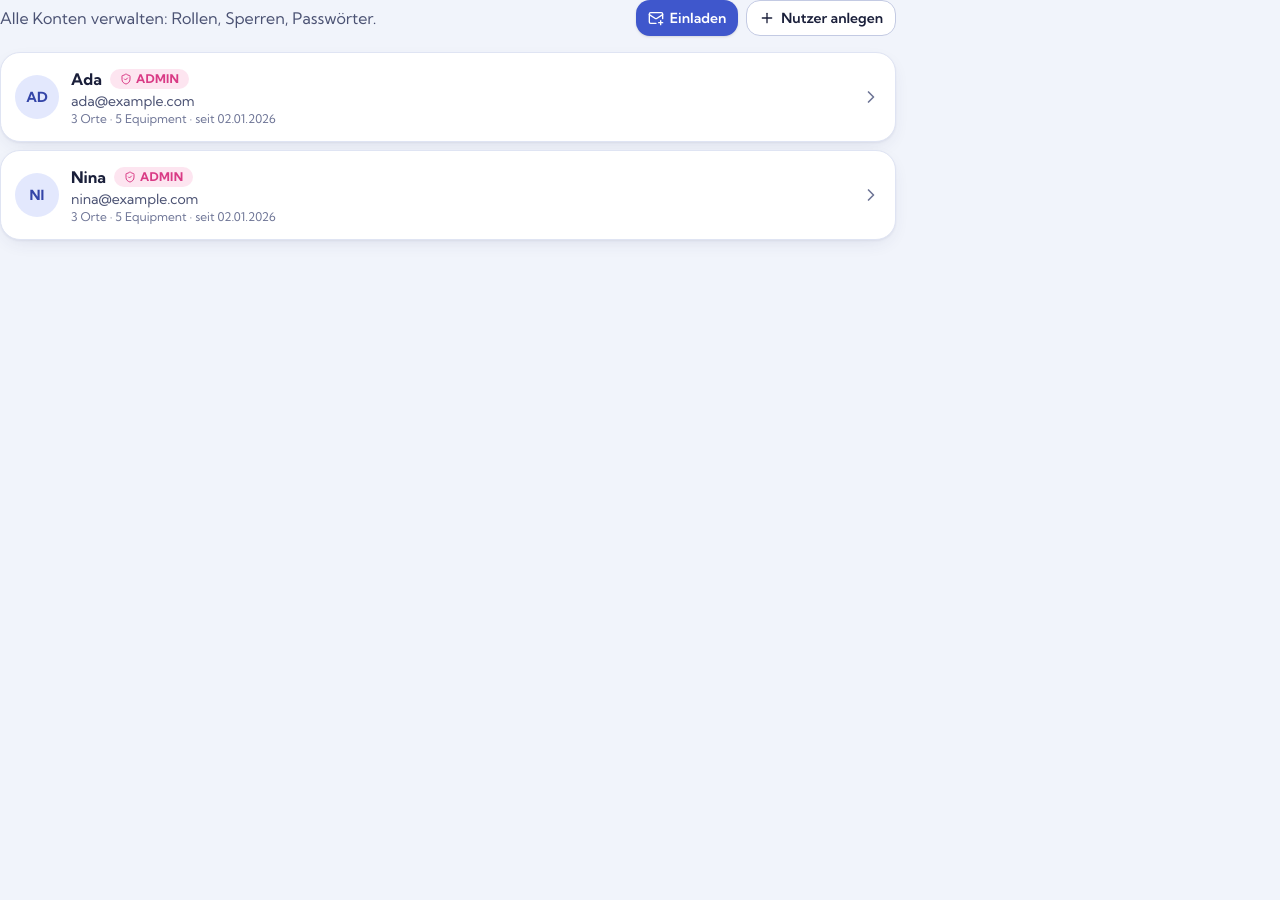
Test: UsersAdmin user dialog › shows why the last admin cannot be demoted
This screenshot has width=1280, height=900.
What coordinates should you click on to do the following:
click the button "Nina"
I would click on:
 (37, 195)
Its box is [1,151,895,239].
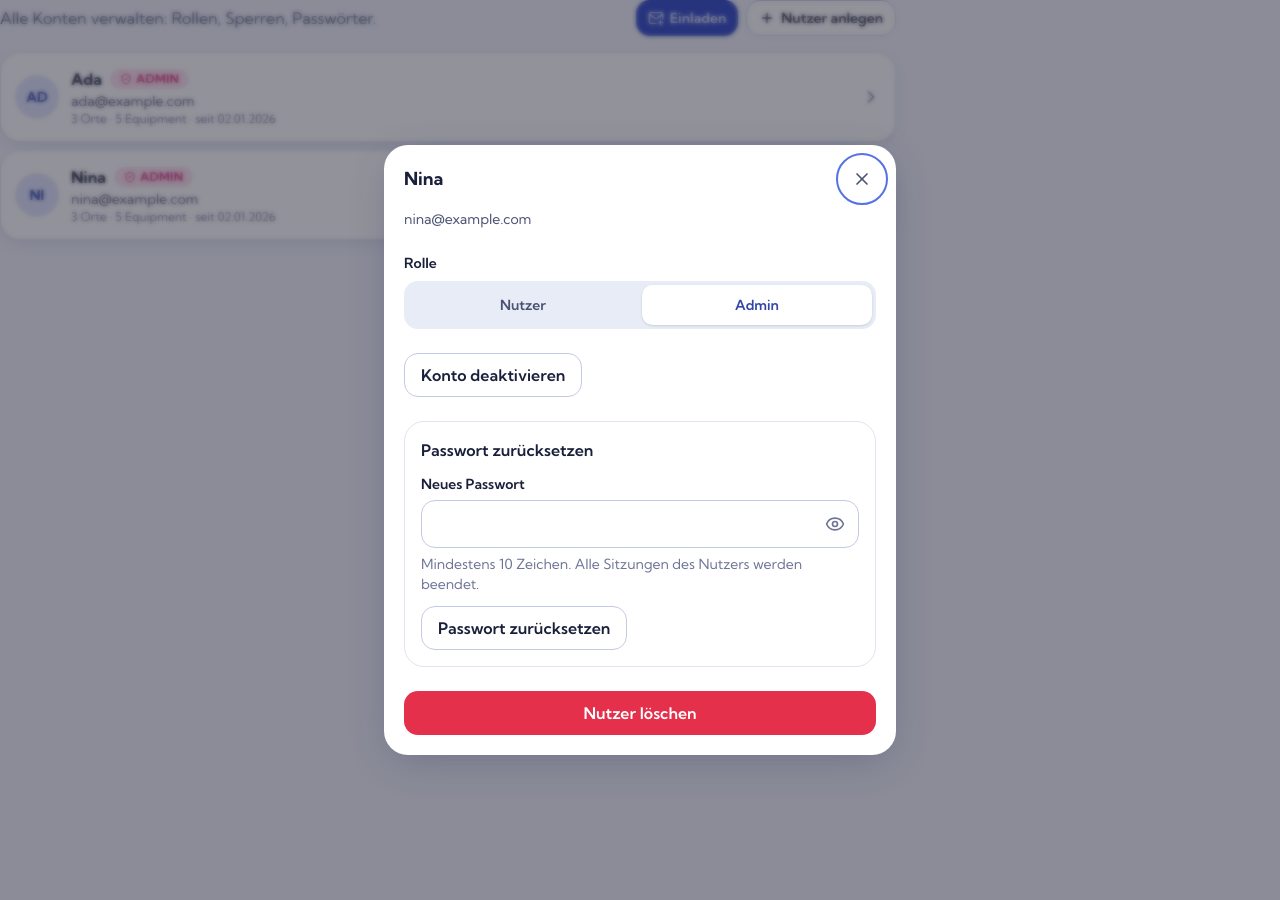
What coordinates should you click on to do the following:
click the tab "Nutzer"
I would click on:
 (523, 305)
Its box is [408,285,638,325].
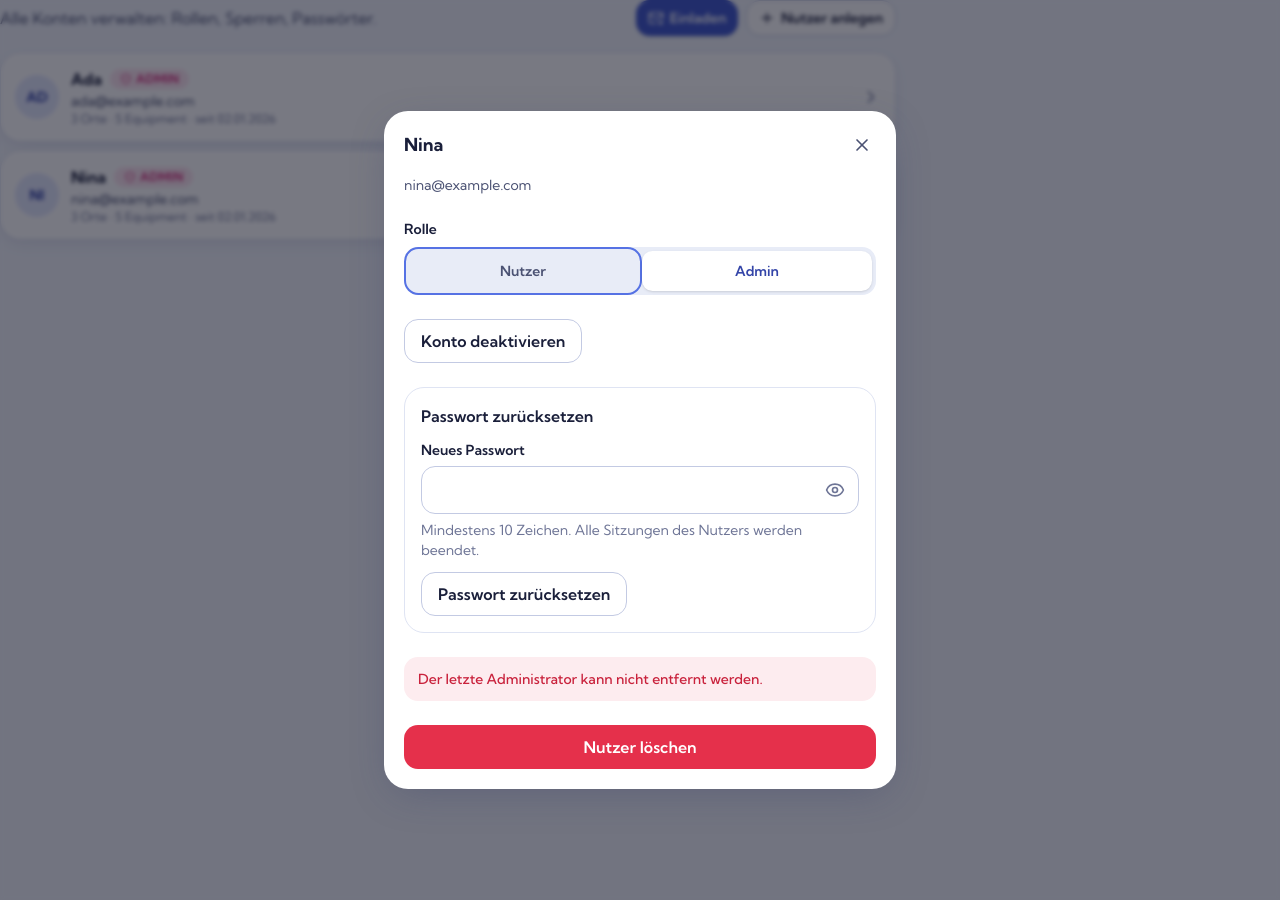
Expected: the message reads "Der letzte Administrator kann nicht entfernt werden.", [418,670,763,688]
